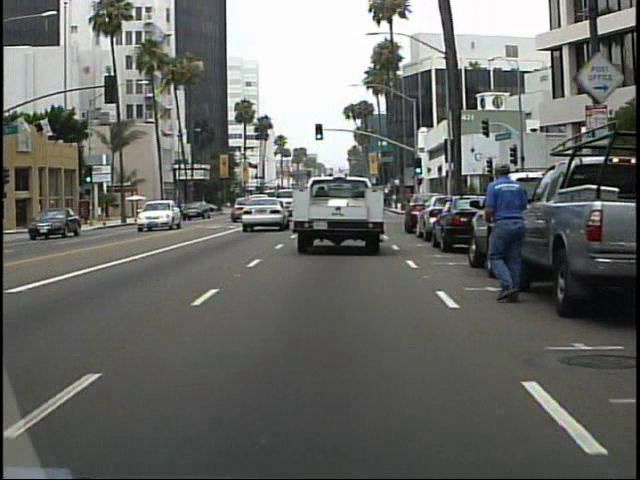person: (475, 157, 533, 306)
